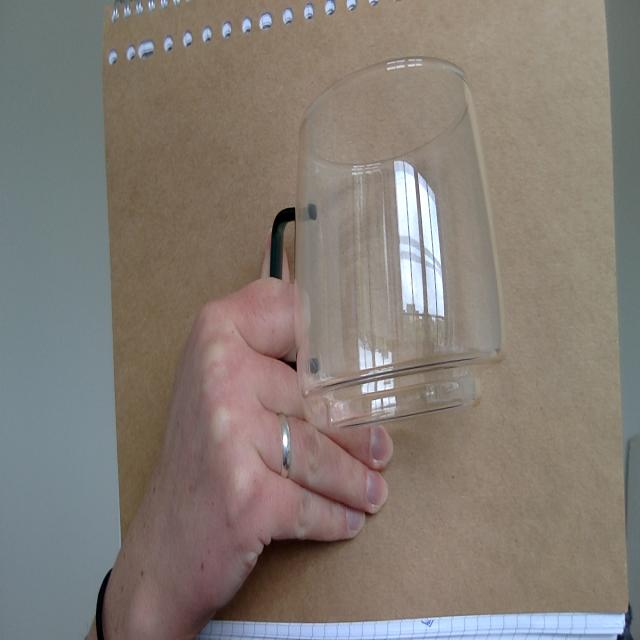cup of coffee: (267, 60, 517, 440)
